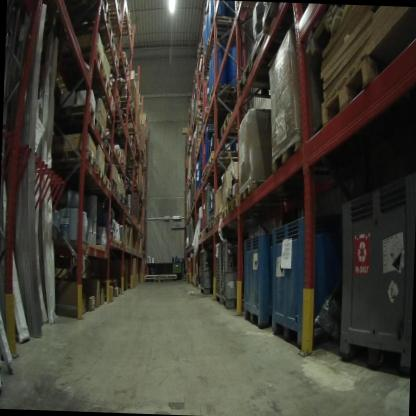pallet: (322, 51, 412, 146), (270, 132, 357, 194), (304, 3, 360, 68), (239, 181, 302, 212), (235, 60, 277, 106), (63, 19, 115, 52), (259, 5, 311, 37), (248, 34, 294, 69), (56, 0, 112, 24), (203, 37, 256, 62), (57, 100, 100, 130), (57, 148, 98, 175), (220, 110, 250, 146), (210, 14, 243, 45), (207, 148, 247, 173), (98, 0, 125, 36), (208, 83, 239, 110), (205, 109, 237, 135), (72, 46, 103, 72), (73, 165, 105, 186), (102, 157, 128, 175), (115, 91, 133, 112), (226, 195, 240, 218), (114, 58, 129, 79), (97, 122, 109, 148), (108, 48, 121, 70), (103, 67, 112, 98), (105, 138, 116, 163), (121, 54, 134, 74), (108, 90, 118, 113), (101, 174, 112, 193), (195, 140, 206, 158), (214, 210, 223, 229), (222, 201, 229, 223), (114, 184, 122, 203), (115, 148, 123, 166), (196, 42, 204, 59), (108, 178, 117, 192), (123, 205, 133, 217), (208, 222, 215, 236), (121, 196, 127, 208), (153, 278, 165, 283), (197, 113, 205, 120), (197, 231, 202, 242), (196, 119, 202, 126), (202, 229, 206, 239), (196, 108, 204, 113)
stillage: (220, 236, 245, 310), (199, 245, 222, 299), (212, 235, 224, 308), (202, 182, 215, 232), (190, 215, 197, 245), (186, 218, 191, 250), (193, 171, 197, 202), (191, 176, 195, 206), (189, 178, 192, 213)
